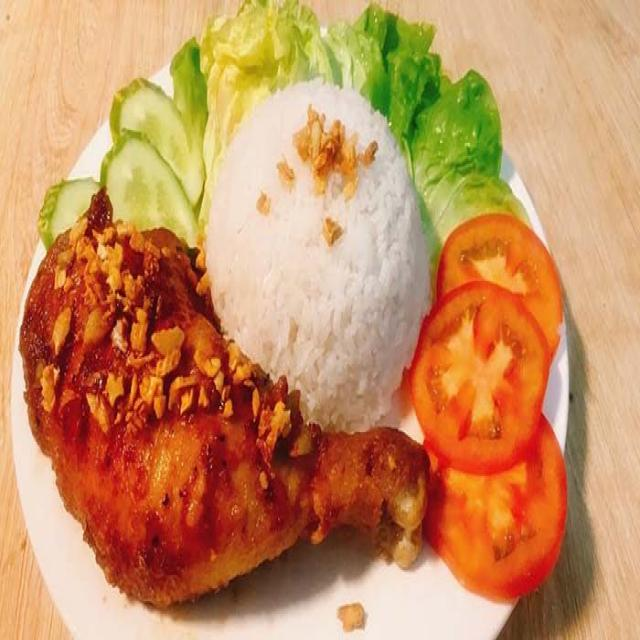ca chua: (424, 414, 566, 603), (411, 283, 548, 474), (438, 213, 560, 354)
com: (206, 80, 432, 429)
dua leo: (111, 78, 204, 205), (101, 132, 198, 244), (38, 177, 100, 249)
ga chien: (20, 190, 430, 604)
